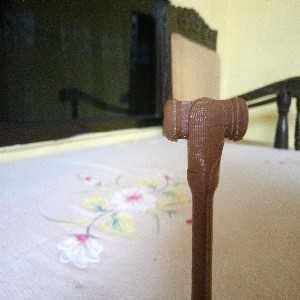palu: (162, 95, 249, 300)
